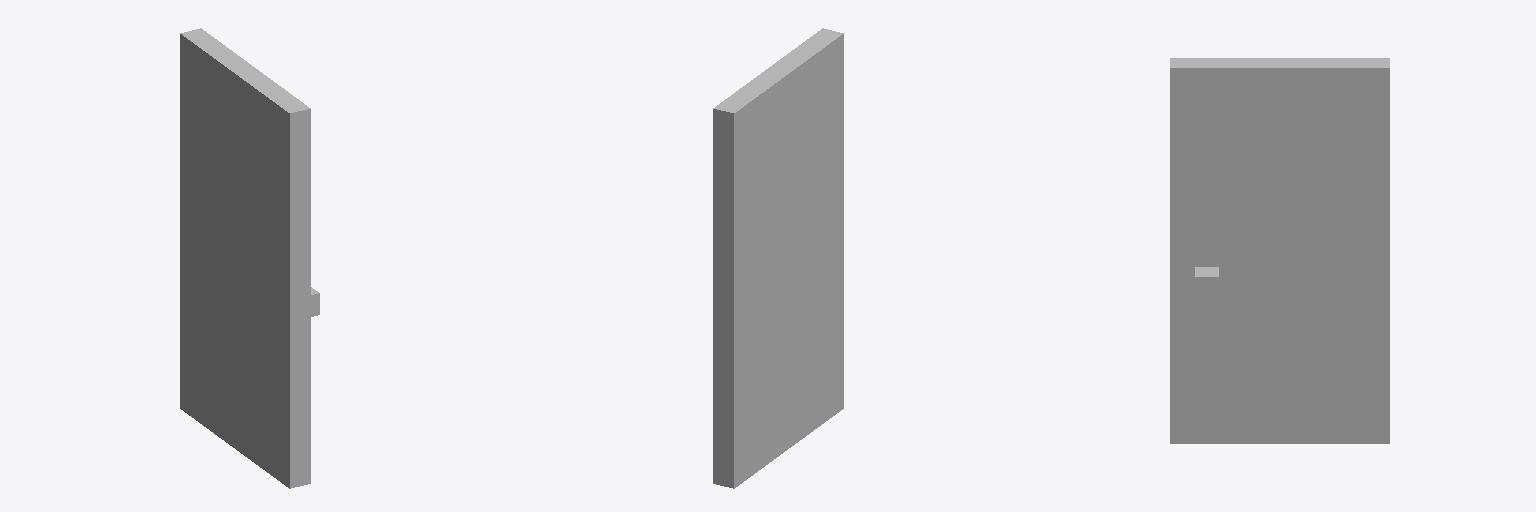
File: --2-Barber door 2.obj
3 views of the same model, side by side, from view 1: azimuth 30°, elevation 25°; view 2: azimuth 150°, elevation 25°; view 3: azimuth 270°, elevation 25° (orthographic).
Parts seen in each view (by area): view 1: Barber door 2; view 2: Barber door 2; view 3: Barber door 2.
Boxes of the visible parts, box(x1,y1,x2,y2) form: Barber door 2: box(180, 28, 319, 488); Barber door 2: box(713, 28, 843, 488); Barber door 2: box(1170, 58, 1389, 443).
Size of the model in its own units: 0.2 by 1.7 by 0.9.